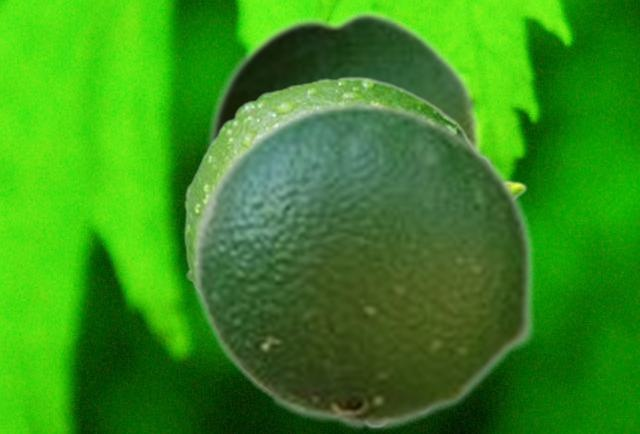dalandan: (190, 99, 536, 431), (183, 75, 526, 288), (206, 6, 482, 148)
